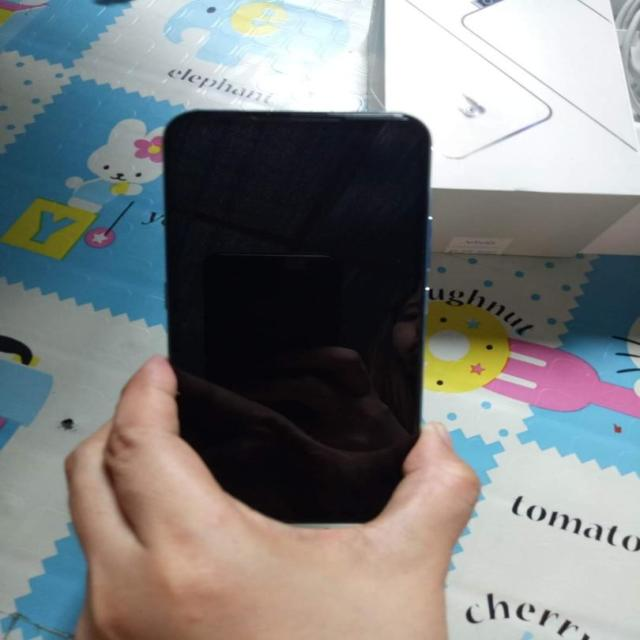mobile phone: (162, 108, 432, 524)
